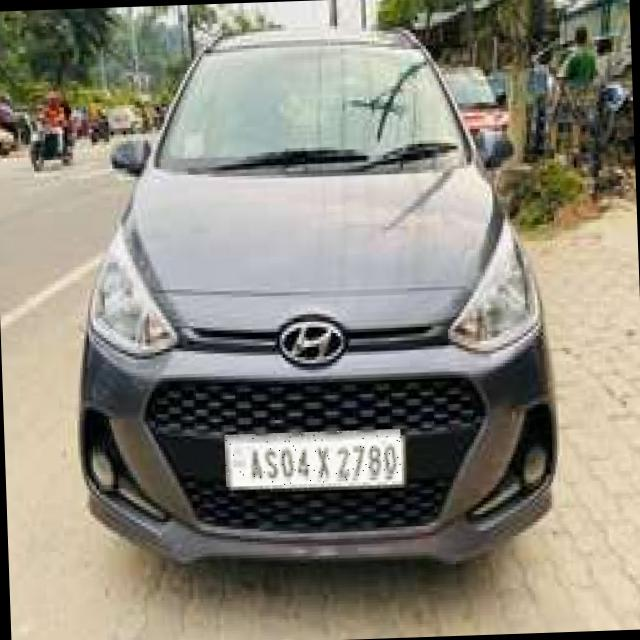Plate: (225, 430, 403, 488)
